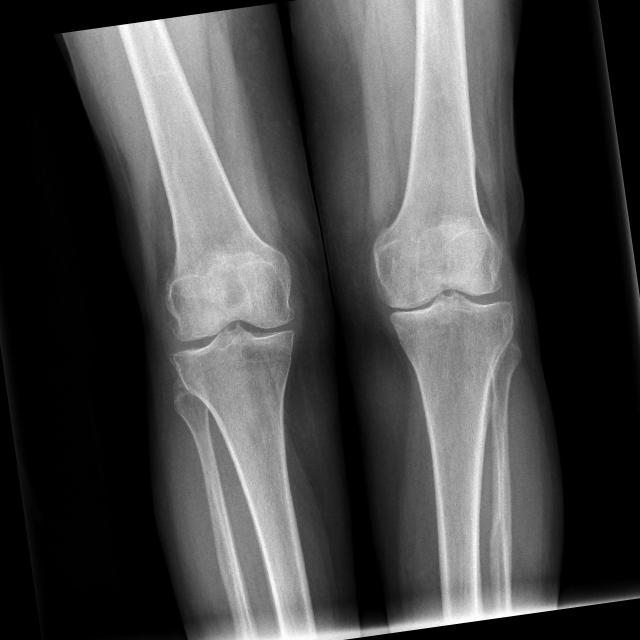Knee: (160, 246, 312, 407), (369, 214, 524, 362)
